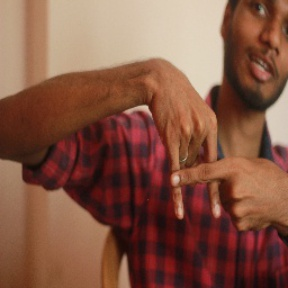H: (143, 122, 249, 235)
